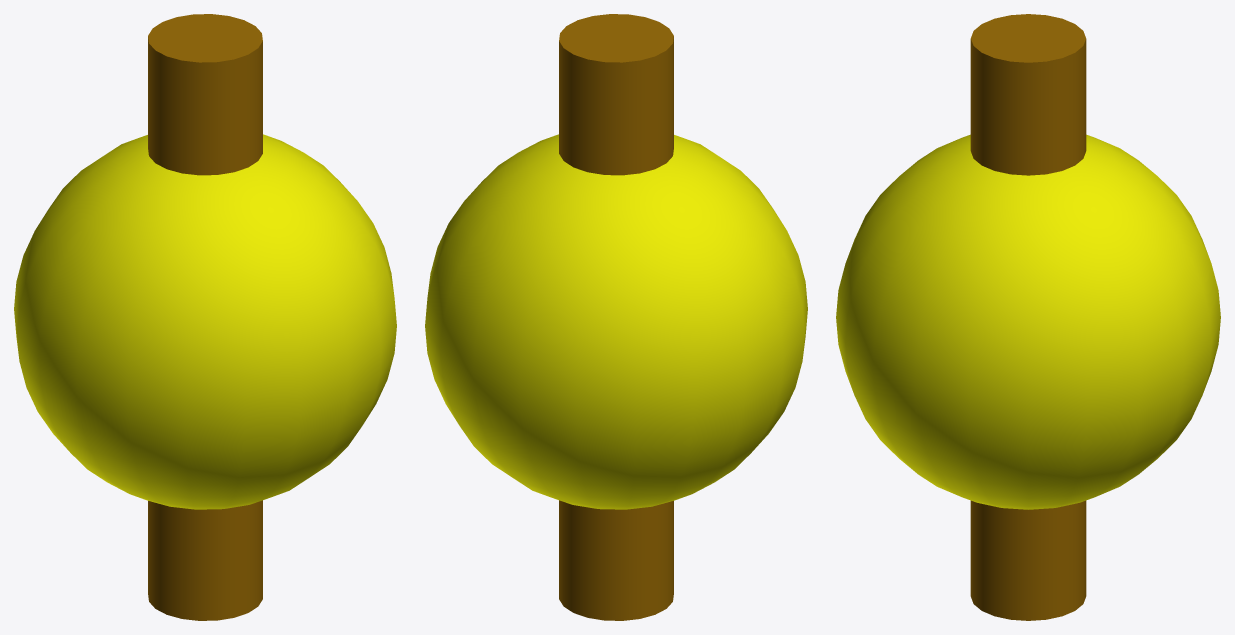
File: TestAlly.fbx
3 views of the same model, side by side, from view 1: azimuth 30°, elevation 25°; view 2: azimuth 150°, elevation 25°; view 3: azimuth 270°, elevation 25° (orthographic).
Visible parts, largest first — view 1: pSphere2; view 2: pSphere2; view 3: pSphere2.
Part boxes in pixels (<box>): pSphere2: <box>14,14,396,620</box>; pSphere2: <box>425,14,807,620</box>; pSphere2: <box>836,14,1220,620</box>.
Size of the model in its own units: 2 by 3.2 by 2.
